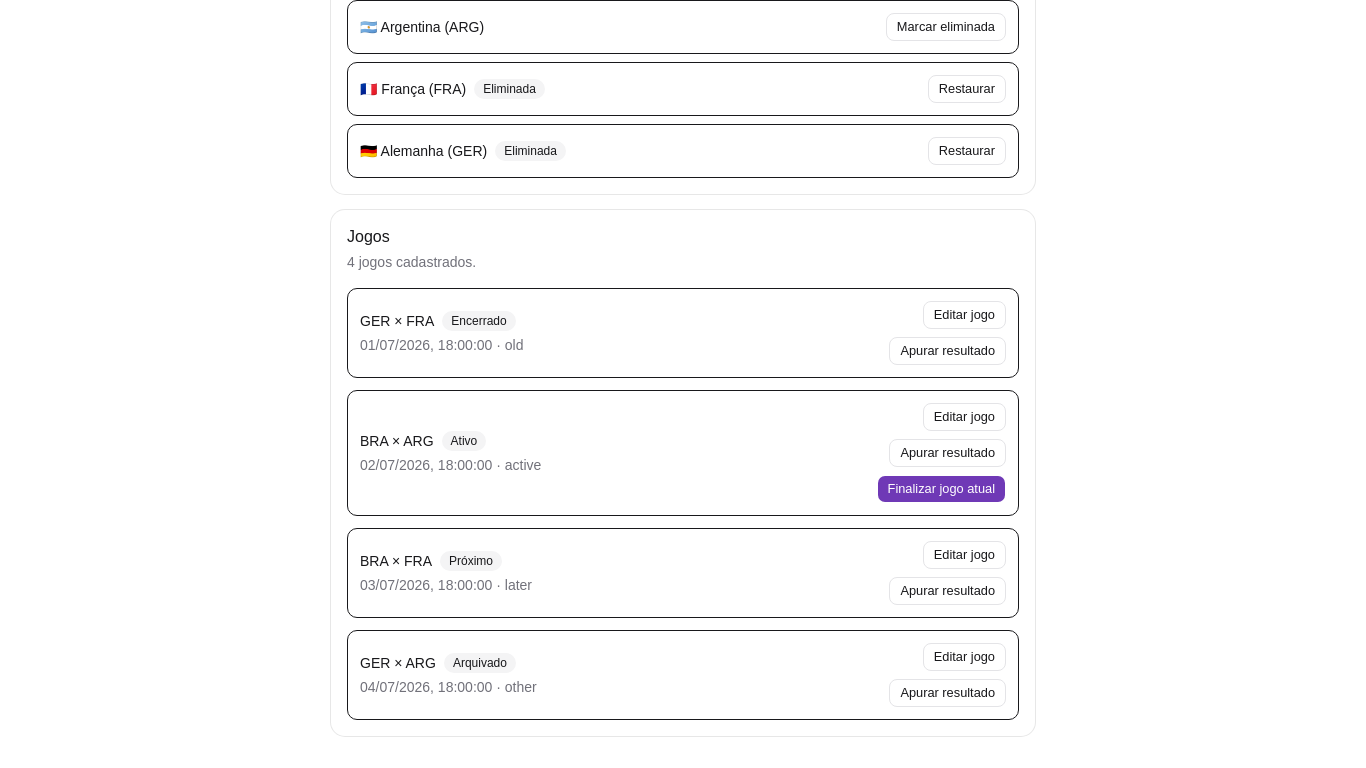
AdminMatchesPage › asks the admin to add a match when none was activated
(page scrolled)
Click the button "Finalizar jogo atual".
click(941, 489)  # box [877,475,1006,503]
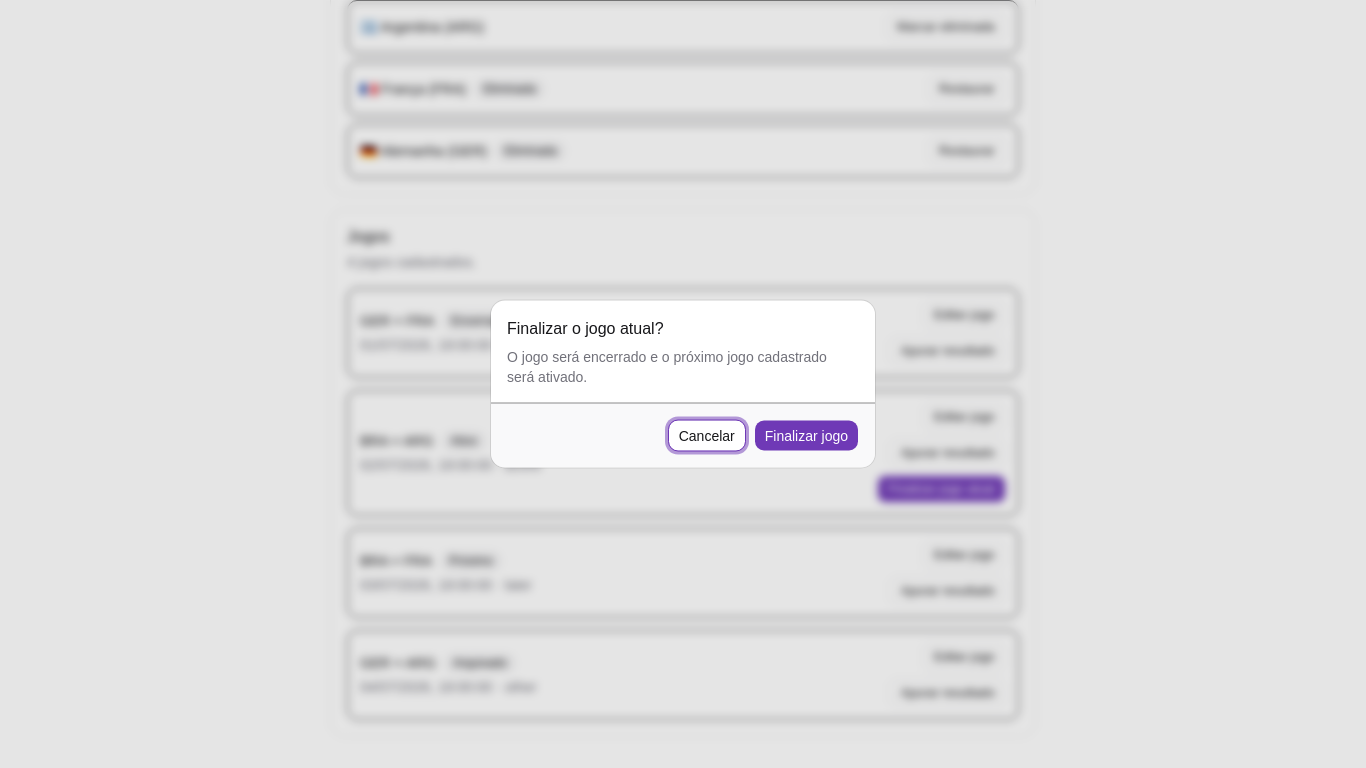
Click the button "Finalizar jogo".
click(806, 436)  # box [754,420,859,452]
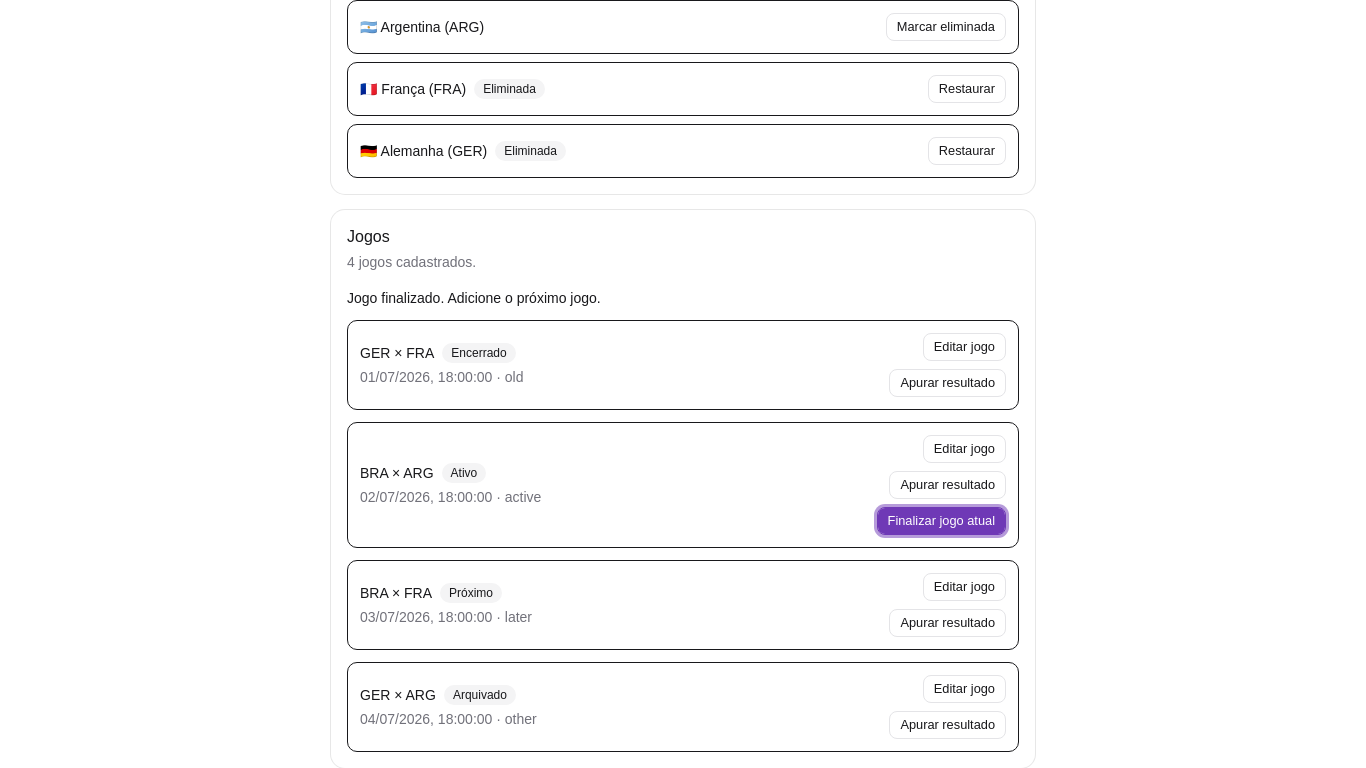
Now the text "Jogo finalizado. Adicione o próximo jogo." is shown, box [347,290,601,306]
